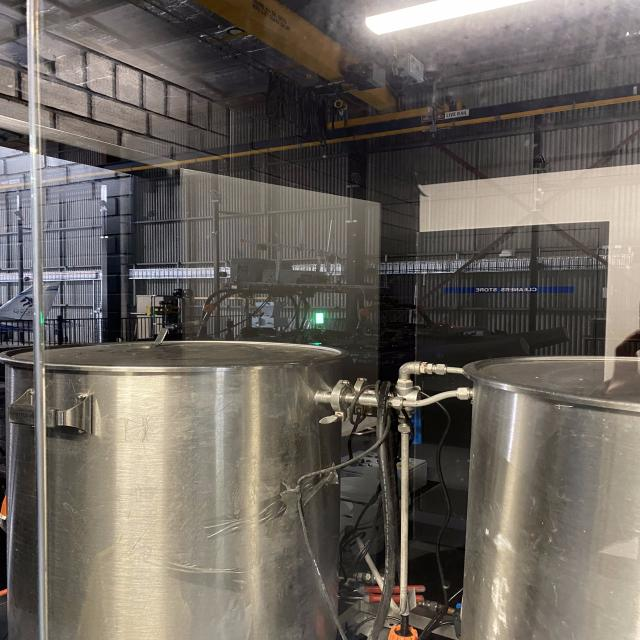matrix: (314, 311, 326, 325)
